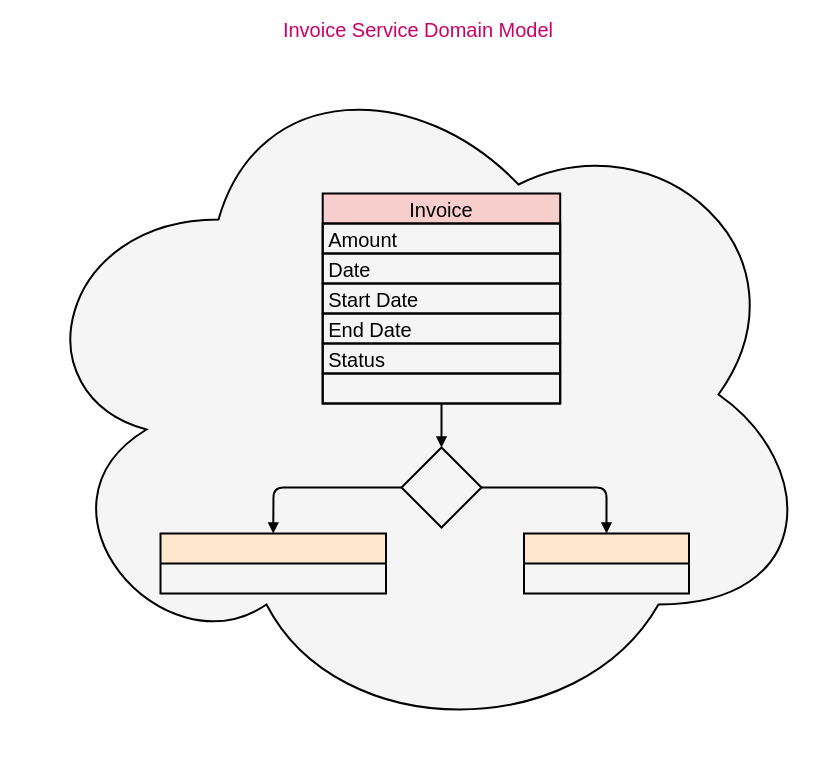
Image size: 836x762. Some labels were removed from this diagram. Here are the shapes that lost their labels. From the top down, the centre of each, then its label:
At point (441, 388): "Comment".
At point (441, 487): "Has".
At point (272, 563): "Invoice Line Item".
At point (606, 563): "Customer".
